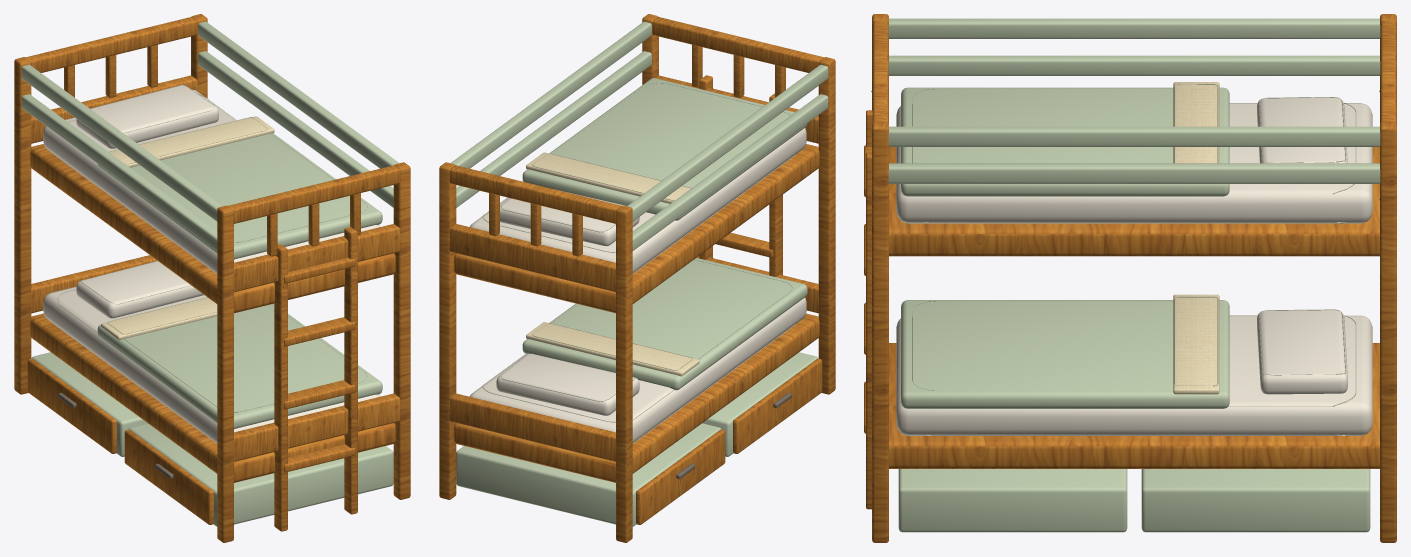
File: storage-bunk.glb
3 views of the same model, side by side, from view 1: azimuth 30°, elevation 25°; view 2: azimuth 150°, elevation 25°; view 3: azimuth 270°, elevation 25° (orthographic). The views are drawn at different scales.
Parts seen in each view (by area): view 1: storage-bunk; view 2: storage-bunk; view 3: storage-bunk.
Boxes of the visible parts, box(x1,y1,x2,y2) form: storage-bunk: box(14, 14, 410, 542); storage-bunk: box(439, 14, 835, 542); storage-bunk: box(864, 14, 1396, 542).
Size of the model in its own units: 1.13 by 1.86 by 2.16.
Materials: 9 (2 with a texture image).
